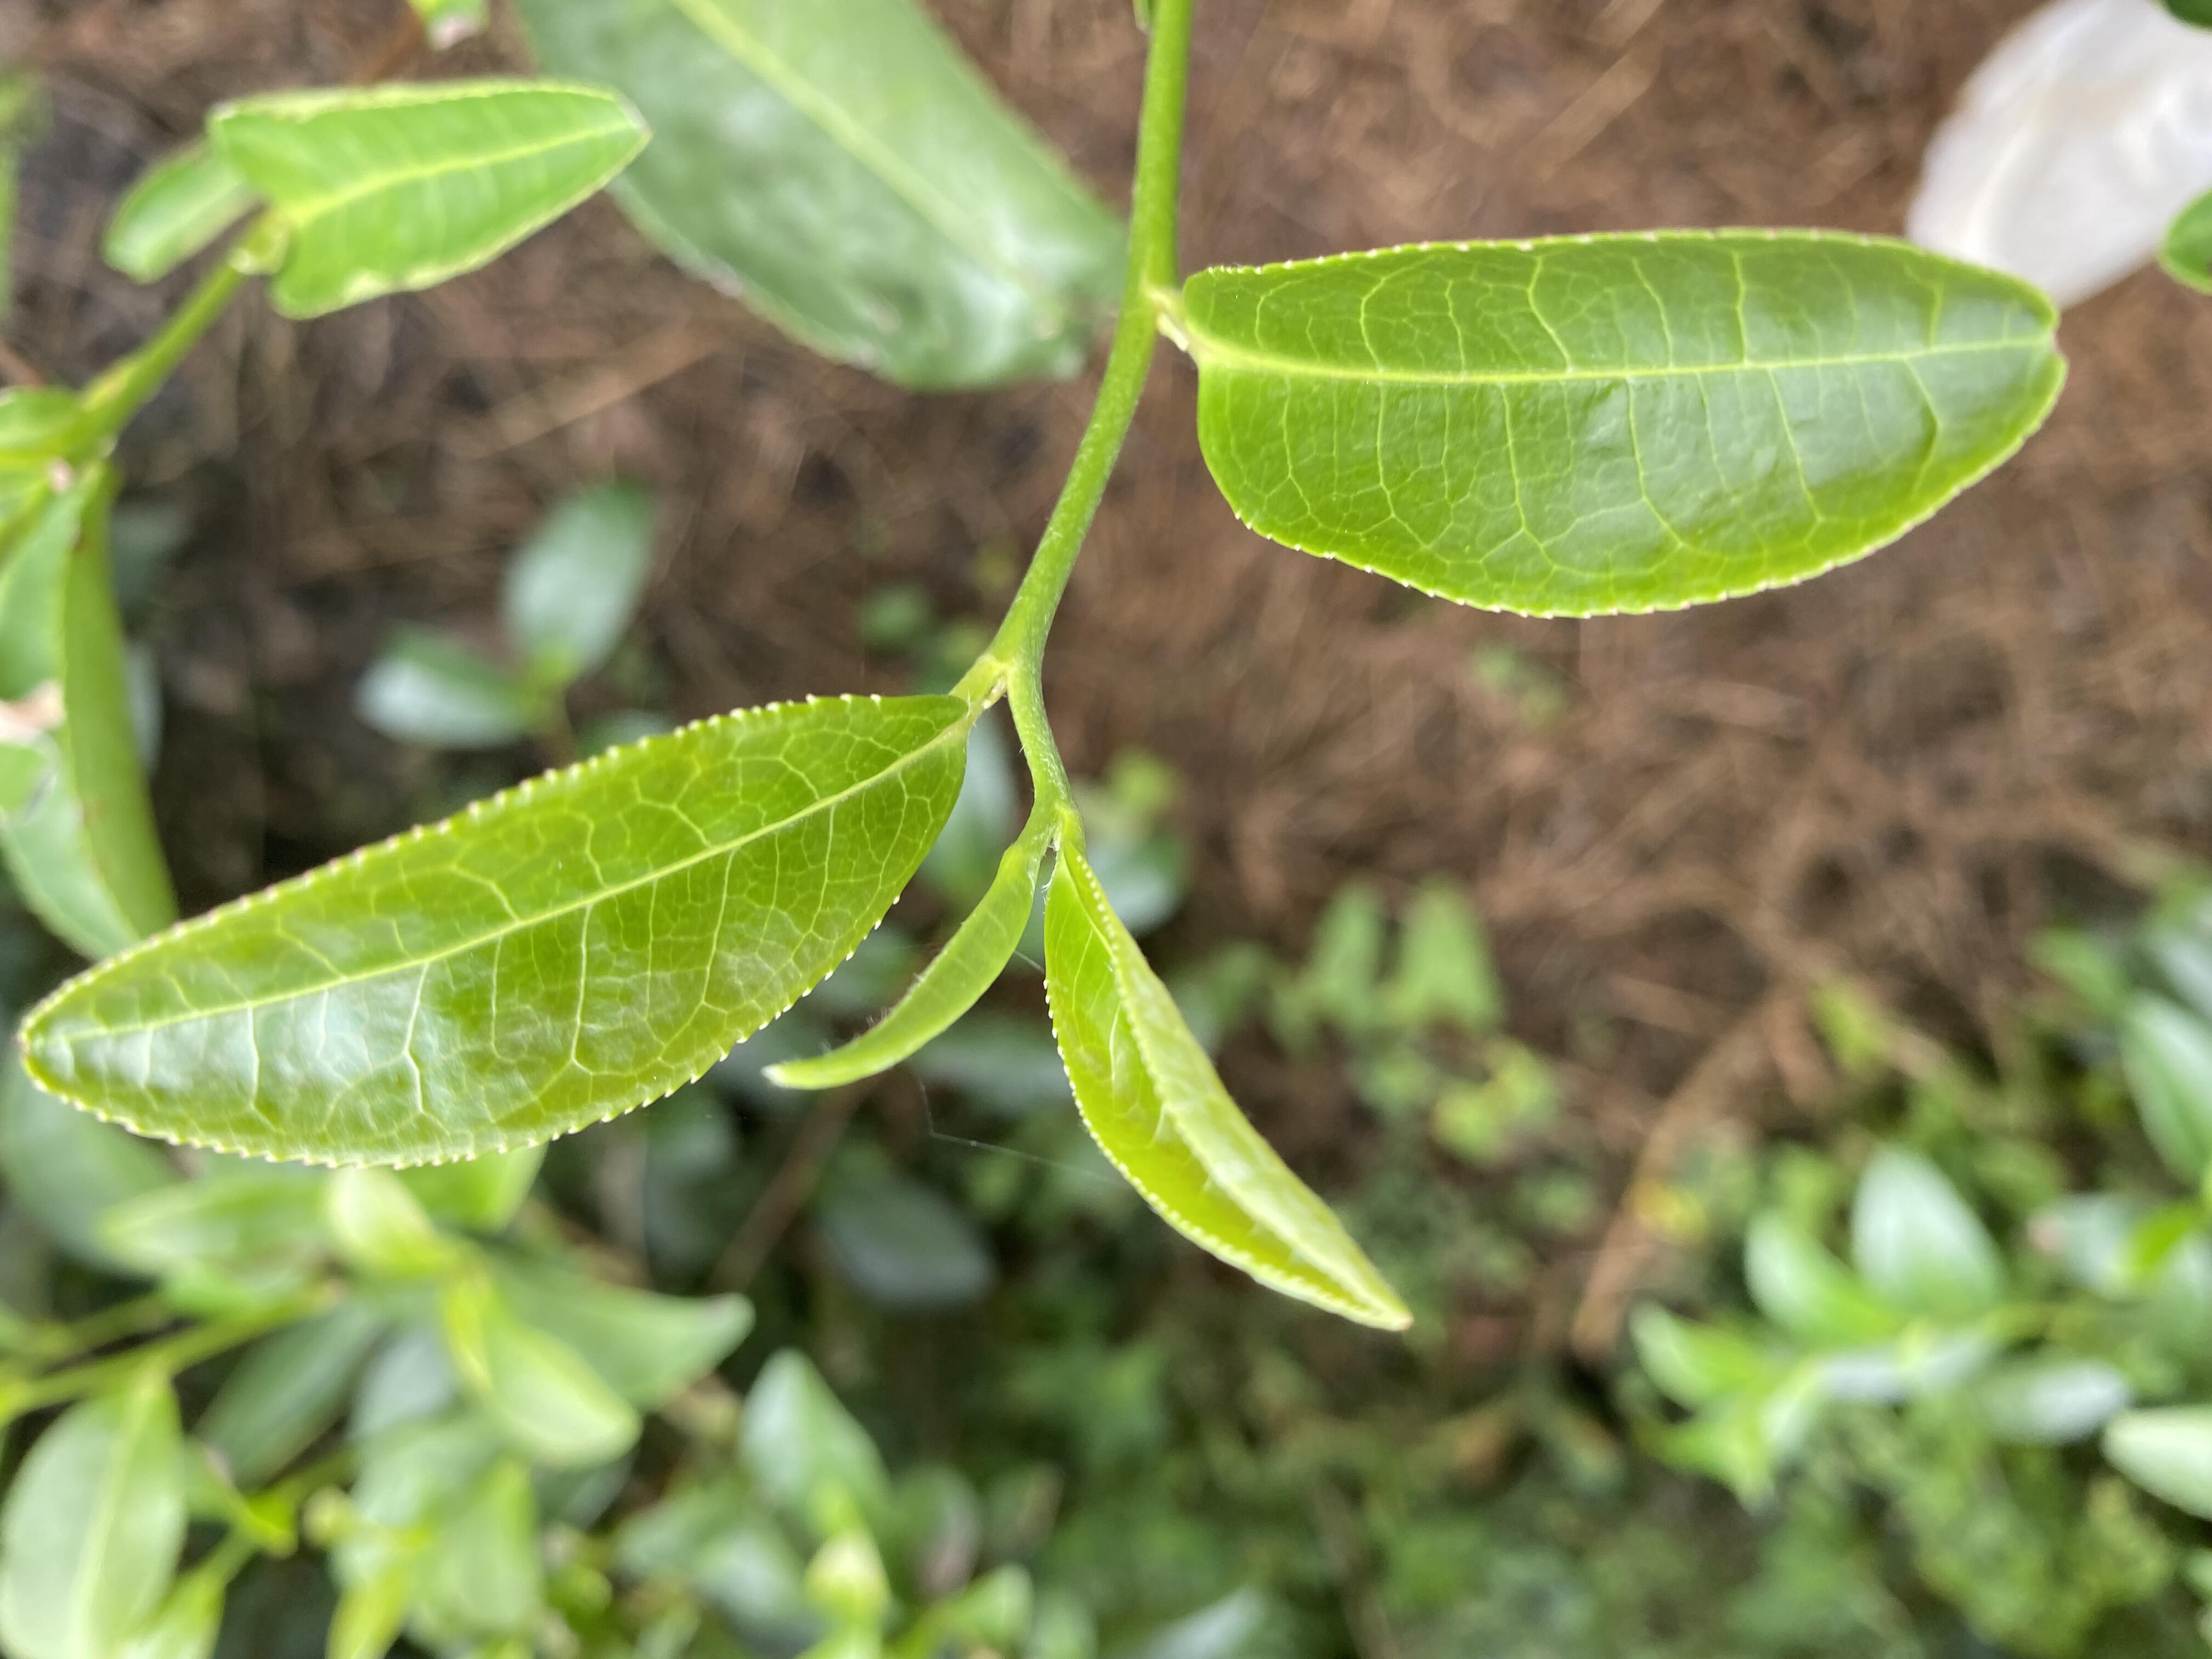healthy: (14, 688, 970, 1173), (1183, 225, 2069, 624), (1042, 847, 1414, 1331)
